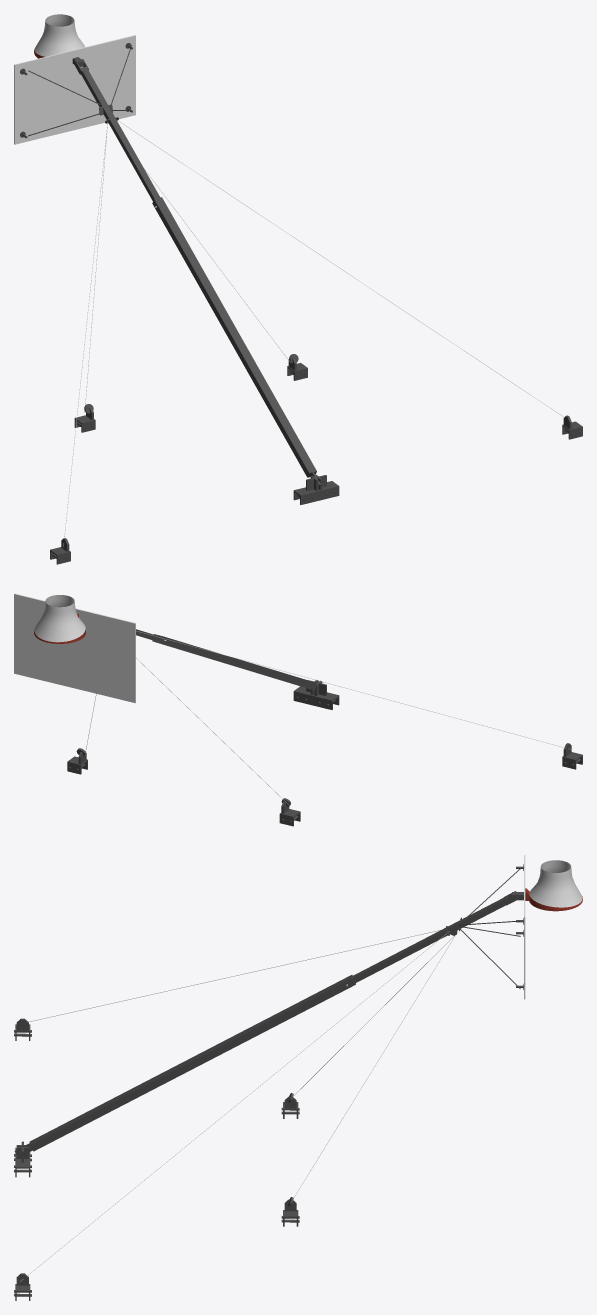
File: BasketNet.fbx
The picture shows the model from 3 angles, top to bottom: view 1: azimuth 30°, elevation 25°; view 2: azimuth 150°, elevation 25°; view 3: azimuth 270°, elevation 25°; orthographic projection. The views are drawn at different scales.
Visible parts, largest first — view 1: Cube.001, Cube.003, Cube.004, Circle.001, BezierCurve.001, Cube.006; view 2: Cube.001, Circle.001, Cube.003, Cube.004, Cube.006, BezierCurve.001; view 3: Cube.003, Circle.001, Cube.004, BezierCurve.001, Cube.006.
Part boxes in pixels (x1,y1,x2,y2): Cube.001: [14, 35, 135, 144]; Cube.003: [74, 59, 320, 488]; Cube.004: [50, 415, 582, 564]; Circle.001: [34, 14, 85, 56]; BezierCurve.001: [63, 120, 572, 546]; Cube.006: [74, 354, 307, 432]; Cube.001: [14, 593, 135, 703]; Circle.001: [34, 595, 85, 642]; Cube.003: [136, 629, 316, 690]; Cube.004: [293, 680, 582, 769]; Cube.006: [67, 748, 300, 826]; BezierCurve.001: [136, 631, 572, 749]; Cube.003: [14, 891, 518, 1153]; Circle.001: [529, 860, 582, 907]; Cube.004: [14, 1018, 31, 1300]; BezierCurve.001: [20, 930, 449, 1281]; Cube.006: [281, 1093, 299, 1226].
Size of the model in its own units: 520 by 274 by 469.
